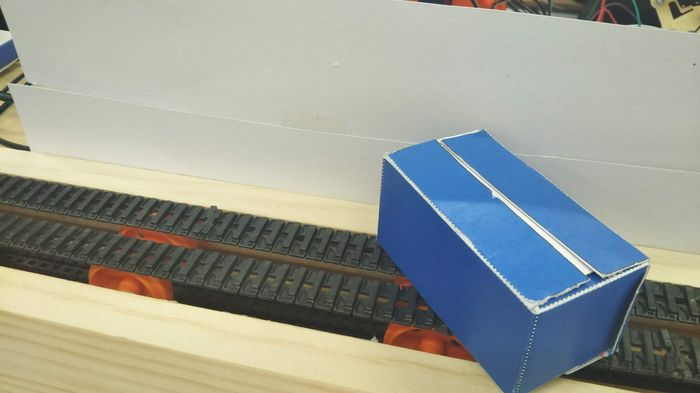box3: (375, 124, 649, 393)
